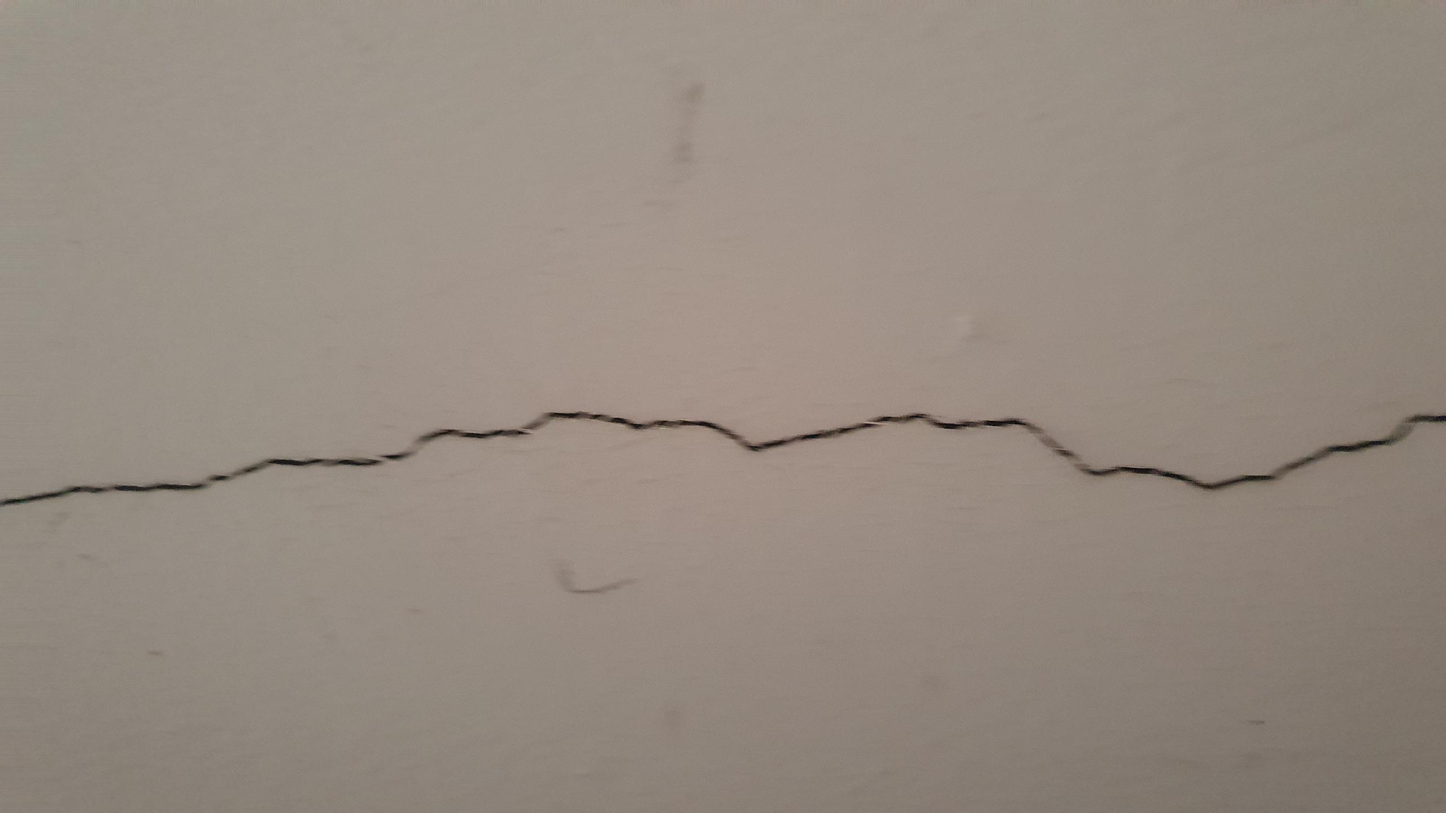crack: (1, 412, 1445, 508)
